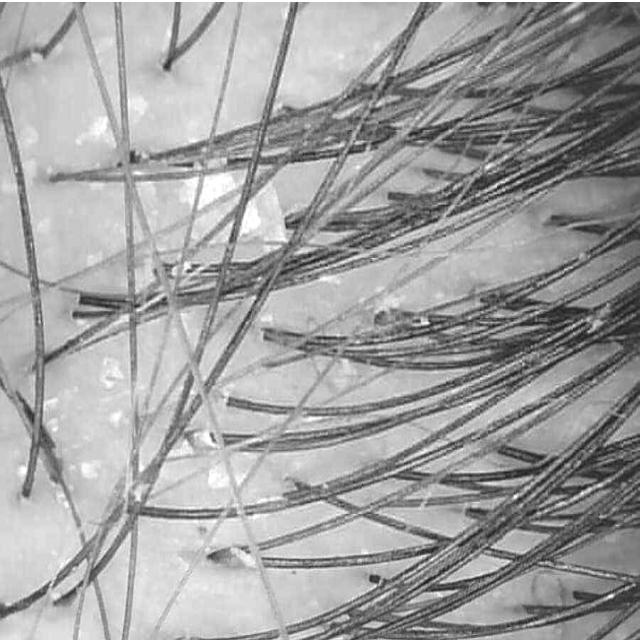d: (198, 174, 238, 210), (75, 115, 114, 147), (208, 547, 255, 569), (99, 356, 124, 391), (241, 201, 261, 235), (185, 430, 216, 450), (179, 177, 198, 207), (129, 94, 148, 121), (209, 465, 229, 489), (80, 461, 101, 479), (15, 464, 28, 479)
